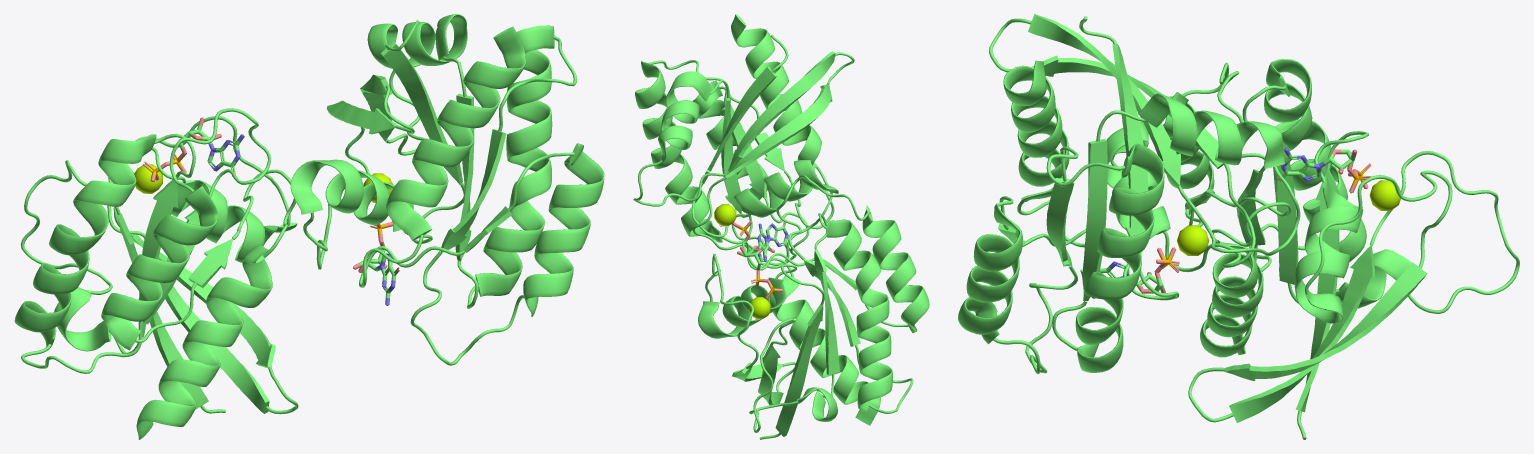
The picture shows the model from 3 angles, left to right: view 1: azimuth 30°, elevation 25°; view 2: azimuth 150°, elevation 25°; view 3: azimuth 270°, elevation 25°; orthographic projection. The views are drawn at different scales.
Visible parts, largest first — view 1: node-geom133, node-geom132, node-geom134, node-geom130; view 2: node-geom133, node-geom132, node-geom134, node-geom131, node-geom130; view 3: node-geom133, node-geom132, node-geom134, node-geom131, node-geom130.
Part boxes in pixels (box(x1,y1,x2,y2)): node-geom133: box(136, 14, 576, 439); node-geom132: box(14, 108, 298, 414); node-geom134: box(359, 26, 604, 363); node-geom130: box(134, 164, 162, 193); node-geom133: box(633, 34, 880, 425); node-geom132: box(698, 175, 929, 439); node-geom134: box(693, 14, 834, 263); node-geom131: box(714, 204, 736, 226); node-geom130: box(749, 297, 770, 319); node-geom133: box(989, 14, 1300, 373); node-geom132: box(1163, 59, 1519, 439); node-geom134: box(958, 60, 1085, 372); node-geom131: box(1177, 225, 1209, 255); node-geom130: box(1369, 180, 1401, 210).
Bounding box in the file's own units: 56.63 × 55.12 × 59.82.
